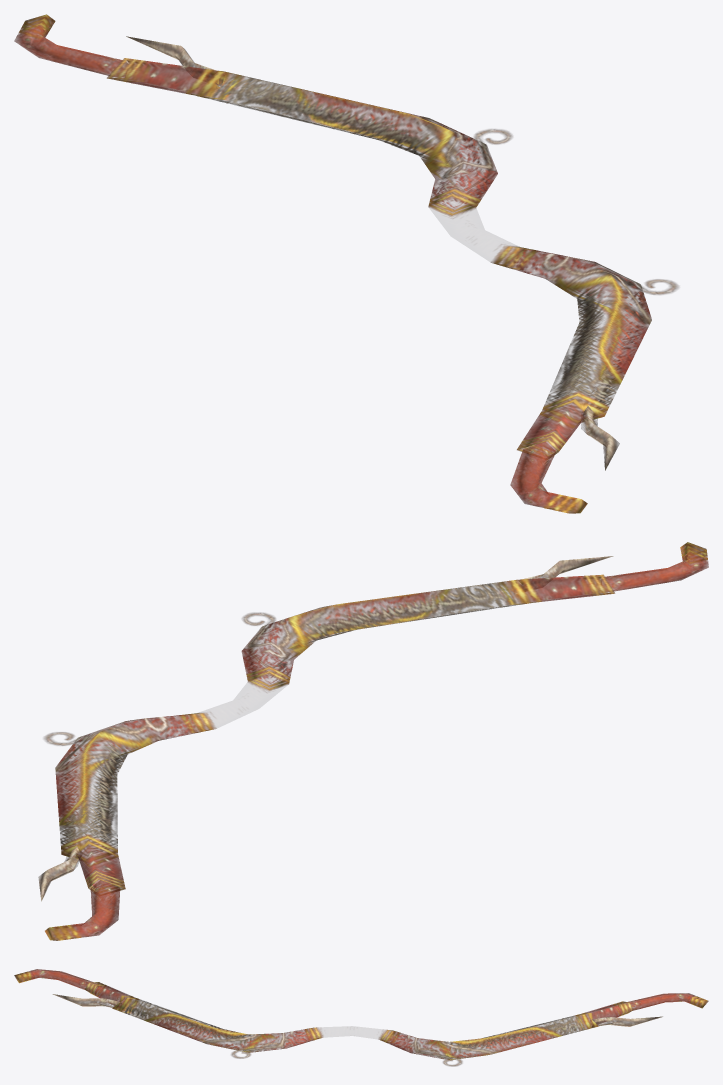
Rendered from bow_03.glb.
The picture shows the model from 3 angles, top to bottom: view 1: azimuth 30°, elevation 25°; view 2: azimuth 150°, elevation 25°; view 3: azimuth 270°, elevation 25°; orthographic projection. The views are drawn at different scales.
Visible parts, largest first — view 1: bow_03; view 2: bow_03; view 3: bow_03.
Boxes of the visible parts, box(x1,y1,x2,y2) form: bow_03: box(14, 14, 678, 513); bow_03: box(38, 542, 708, 940); bow_03: box(14, 969, 708, 1066).
Size of the model in its own units: 0.4288 by 0.0363 by 1.23.
Materials: 1 (1 with a texture image).
